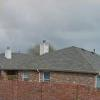Chimney: (36, 34, 59, 61)
